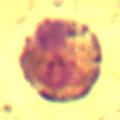eosi: (17, 17, 106, 101)
